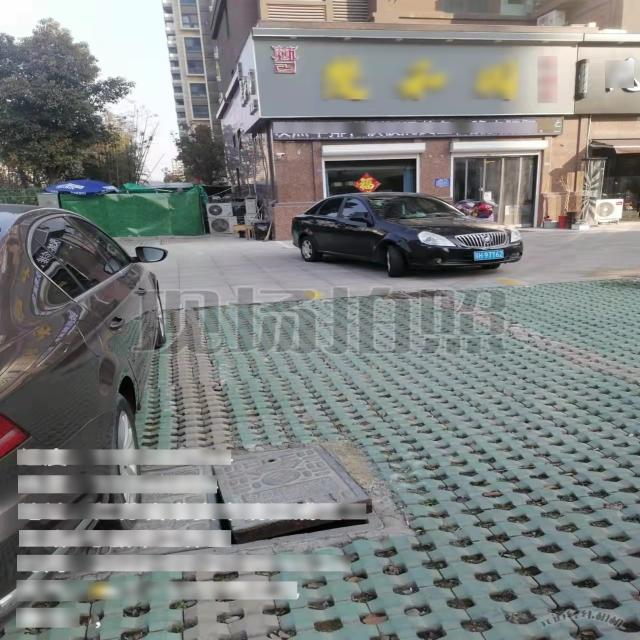Lose: (138, 444, 384, 563)
